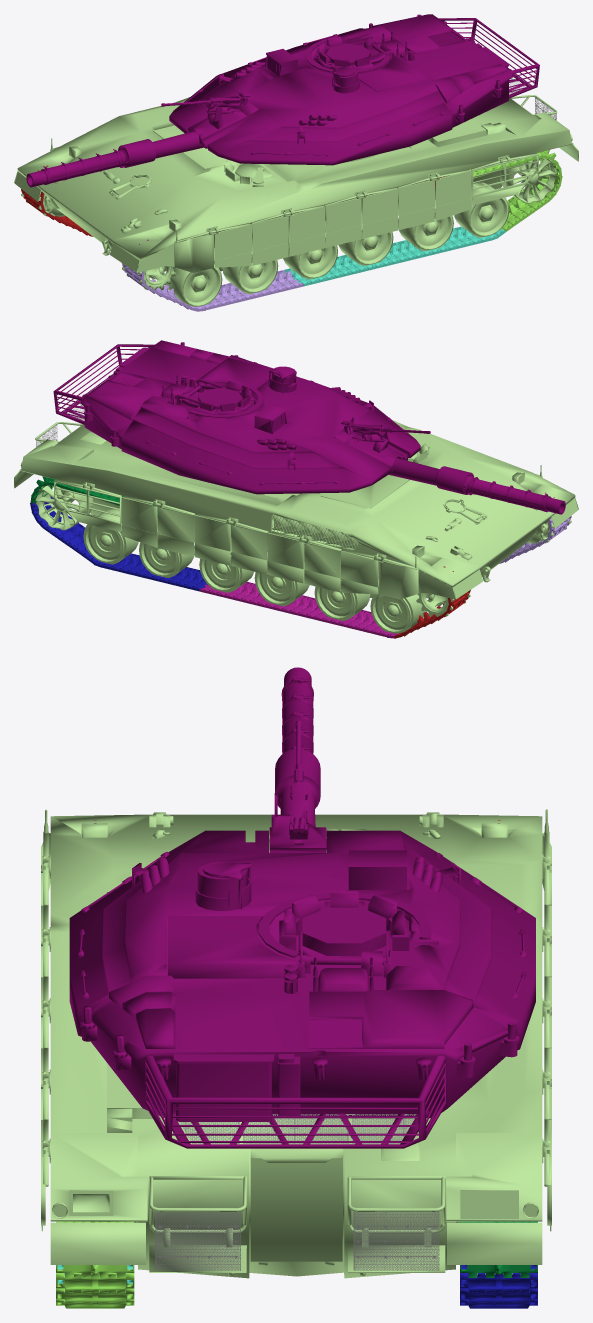
3 views of the same model, one above another, from view 1: azimuth 30°, elevation 25°; view 2: azimuth 150°, elevation 25°; view 3: azimuth 270°, elevation 25° (orthographic). The views are drawn at different scales.
Visible parts, largest first — view 1: AM84_009_171, AM84_009_172; view 2: AM84_009_171, AM84_009_172; view 3: AM84_009_172, AM84_009_171, AM84_009_01, AM84_009_108, AM84_009_24, AM84_009_109, AM84_009_25.
Part boxes in pixels (box(x1,y1,x2,y2)): AM84_009_171: box(14, 95, 578, 306); AM84_009_172: box(26, 14, 539, 187); AM84_009_171: box(14, 420, 578, 633); AM84_009_172: box(53, 340, 565, 514); AM84_009_172: box(69, 667, 535, 1148); AM84_009_171: box(41, 809, 551, 1278); AM84_009_01: box(155, 1114, 439, 1270); AM84_009_108: box(56, 1273, 134, 1292); AM84_009_24: box(460, 1273, 537, 1292); AM84_009_109: box(56, 1288, 134, 1302); AM84_009_25: box(460, 1288, 537, 1302).
Size of the model in its own units: 910142 by 294544 by 409297.
